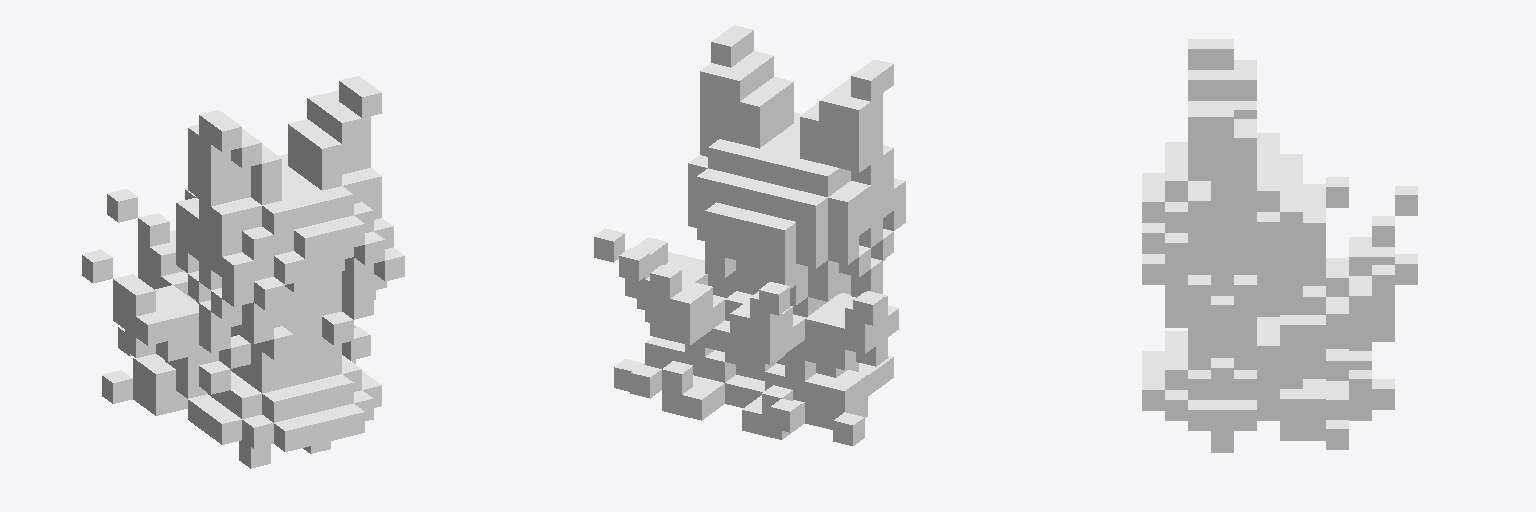
The model's file is chr_fox.obj.
The picture shows the model from 3 angles: view 1: azimuth 30°, elevation 25°; view 2: azimuth 150°, elevation 25°; view 3: azimuth 270°, elevation 25°; orthographic projection.
Visible parts, largest first — view 1: chr_fox; view 2: chr_fox; view 3: chr_fox.
Boxes of the visible parts, x1=… form: chr_fox: x1=82, y1=76, x2=404, y2=468; chr_fox: x1=594, y1=25, x2=905, y2=445; chr_fox: x1=1142, y1=39, x2=1417, y2=452.
Size of the model in its own units: 14 by 17 by 12.